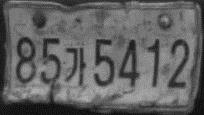1: (146, 37, 160, 88)
2: (166, 38, 190, 88)
4: (117, 38, 141, 87)
5: (92, 38, 115, 86), (39, 37, 61, 84)
8: (15, 36, 36, 84)
가: (63, 46, 87, 87)
